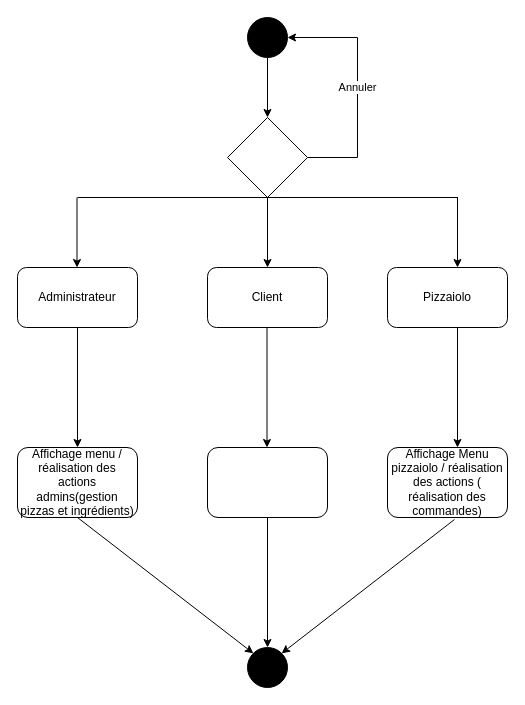
The diagram is 525 pixels wide and 705 high, and some of its shapes have lost their labels. Here are the shapes that lost their labels. From the top down, the box of each, then its label:
(226, 116, 308, 198): choix du profil
(206, 446, 328, 518): Affichage menu / réalisation des actions client (commandes)
